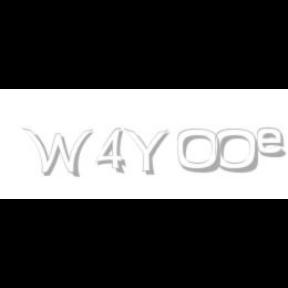4: (96, 128, 127, 174)
O: (176, 128, 222, 174), (214, 128, 260, 174)
W: (22, 128, 94, 178)
Y: (123, 128, 169, 176)
e: (256, 128, 288, 158)
